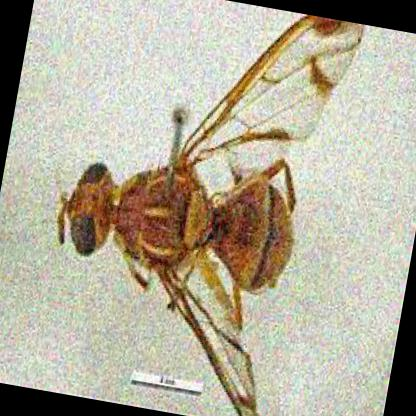fruit fly: (60, 14, 365, 406)
